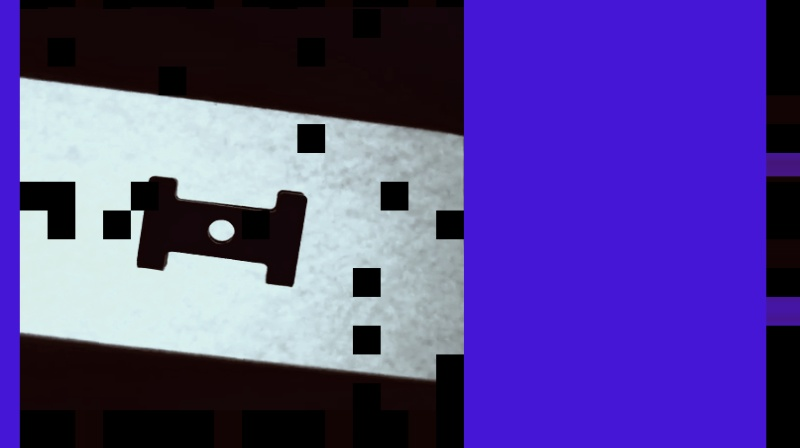O002: (135, 172, 310, 293)
